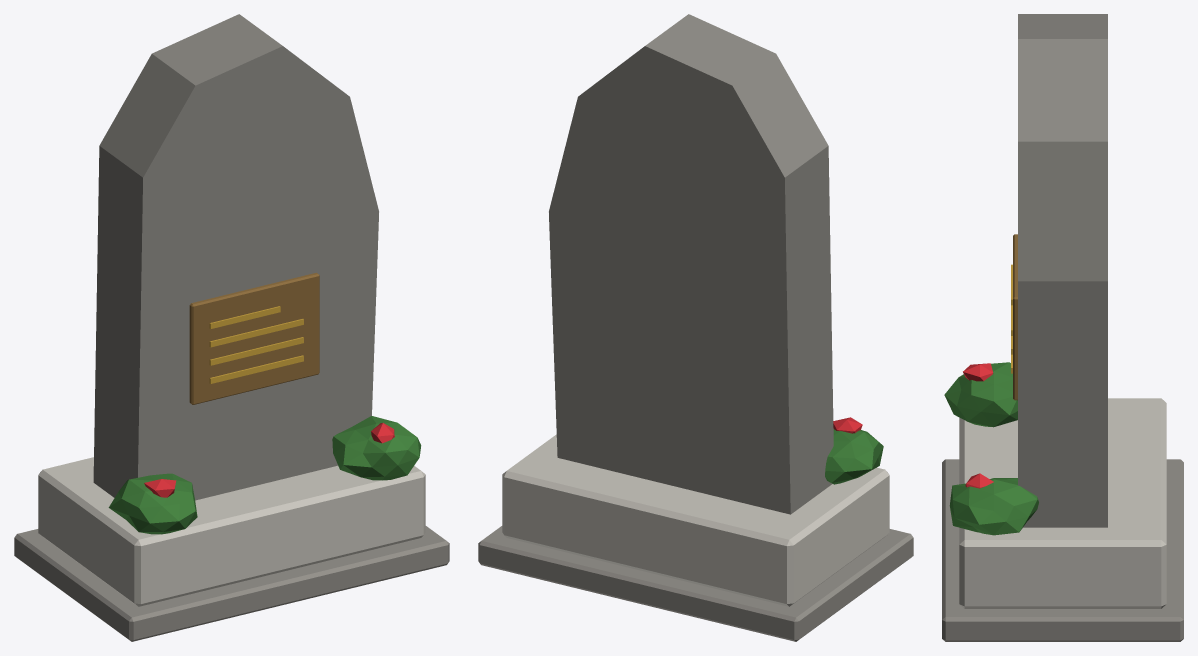
The model's file is monumento.glb.
3 renders of one model, left to right at view 1: azimuth 30°, elevation 25°; view 2: azimuth 150°, elevation 25°; view 3: azimuth 270°, elevation 25°, orthographic. The views are drawn at different scales.
Parts seen in each view (by area): view 1: monumento; view 2: monumento; view 3: monumento.
Boxes of the visible parts, box(x1,y1,x2,y2) form: monumento: box(14, 14, 449, 641); monumento: box(478, 14, 913, 641); monumento: box(942, 14, 1183, 641).
Size of the model in its own units: 1.1 by 1.72 by 0.7.
